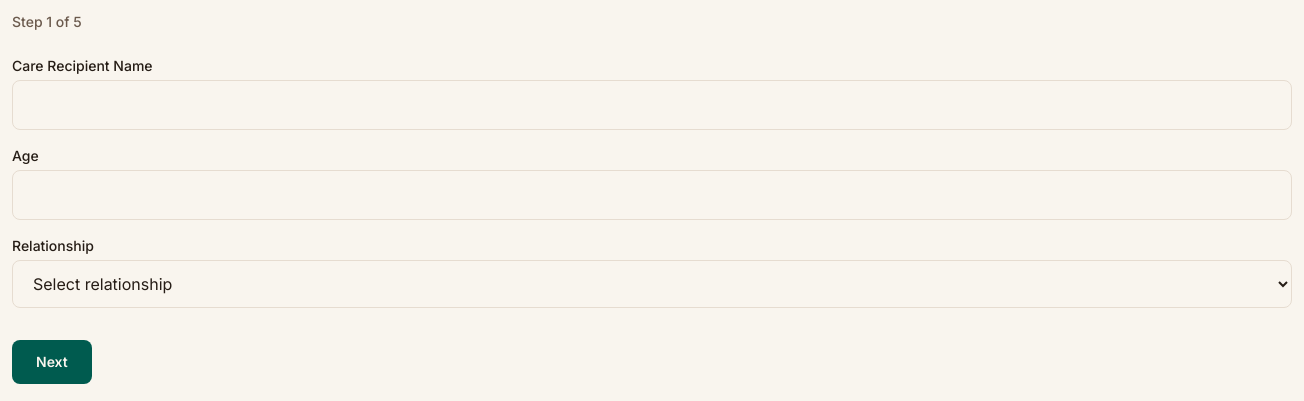
AssessmentForm › Step navigation › going back preserves entered data
In the field labelled "Care Recipient Name": (652, 105) [12,80,1292,130], type "John Smith"
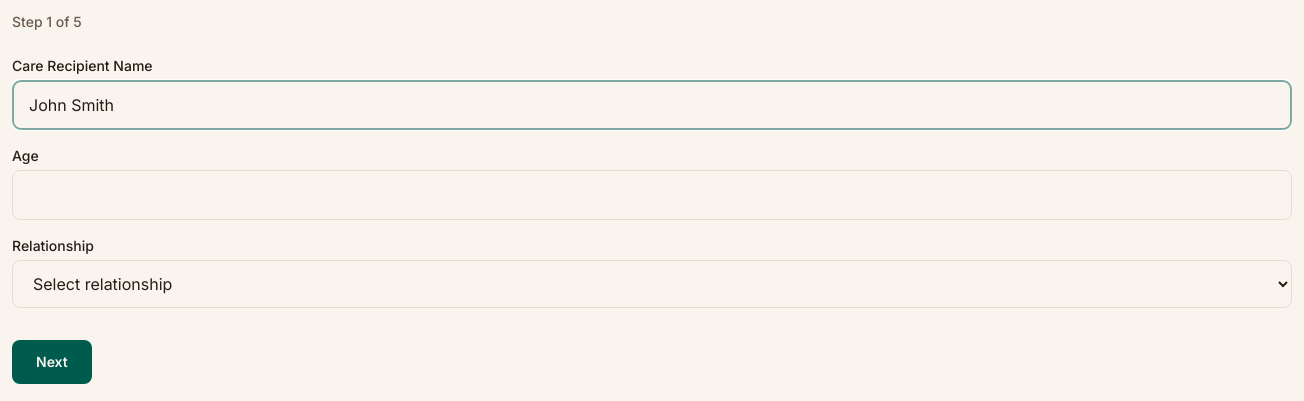
In the field labelled "Age": (652, 195) [12,170,1292,220], type "78"
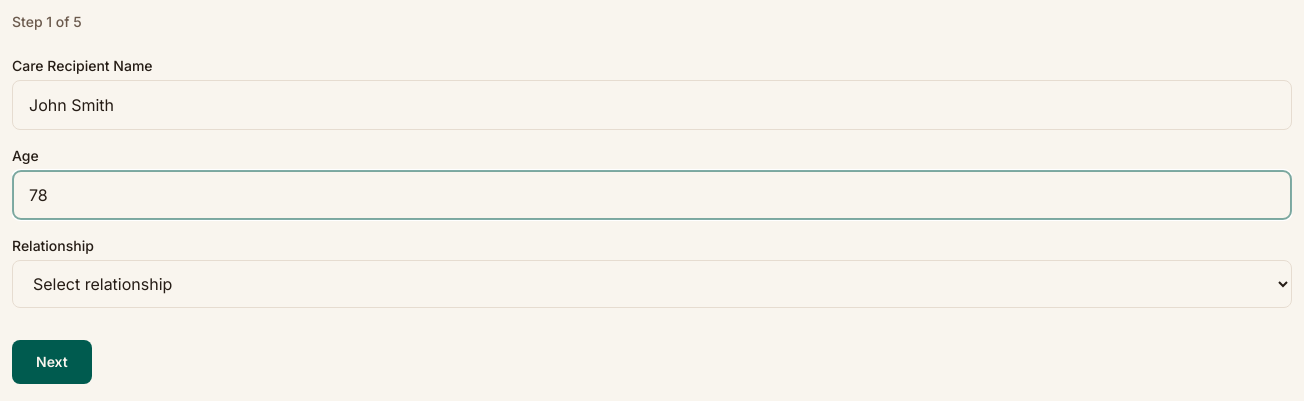
Select "Parent" in the dropdown labelled "Relationship": (652, 284) [12,260,1292,308]
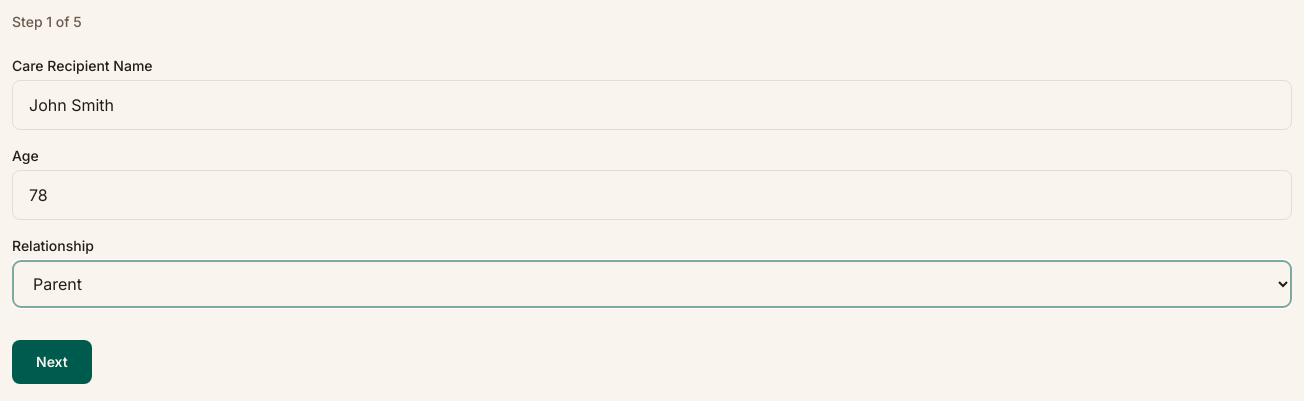
Click the button "Next": (52, 362) [12,340,92,384]
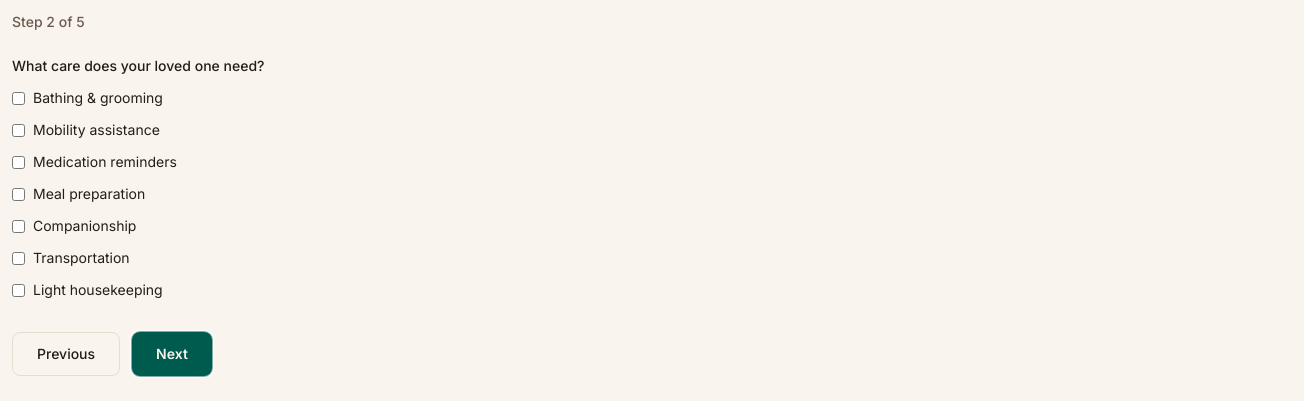
Click the button "Previous": (66, 354) [12,332,120,376]
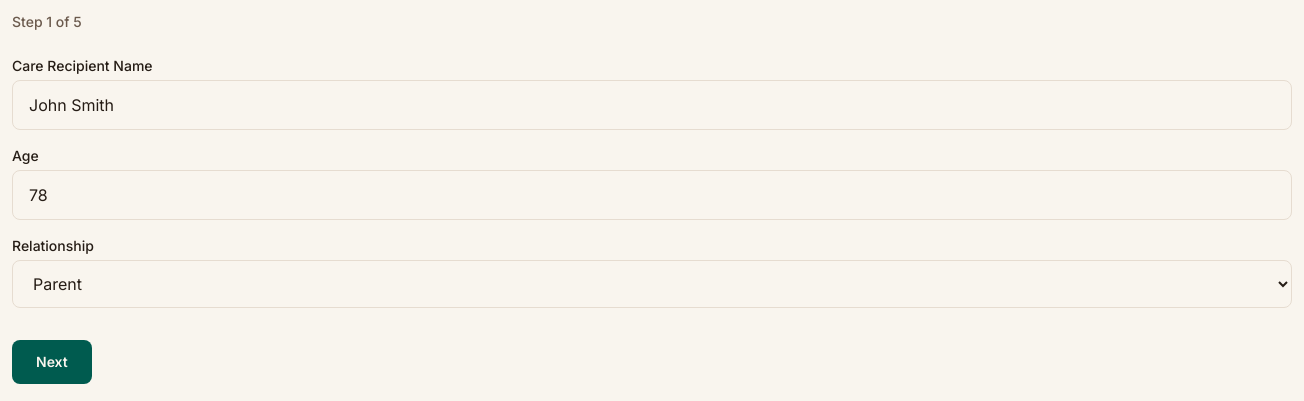
Result: the field labelled "Care Recipient Name" holds "John Smith" at [12,80,1292,130]
